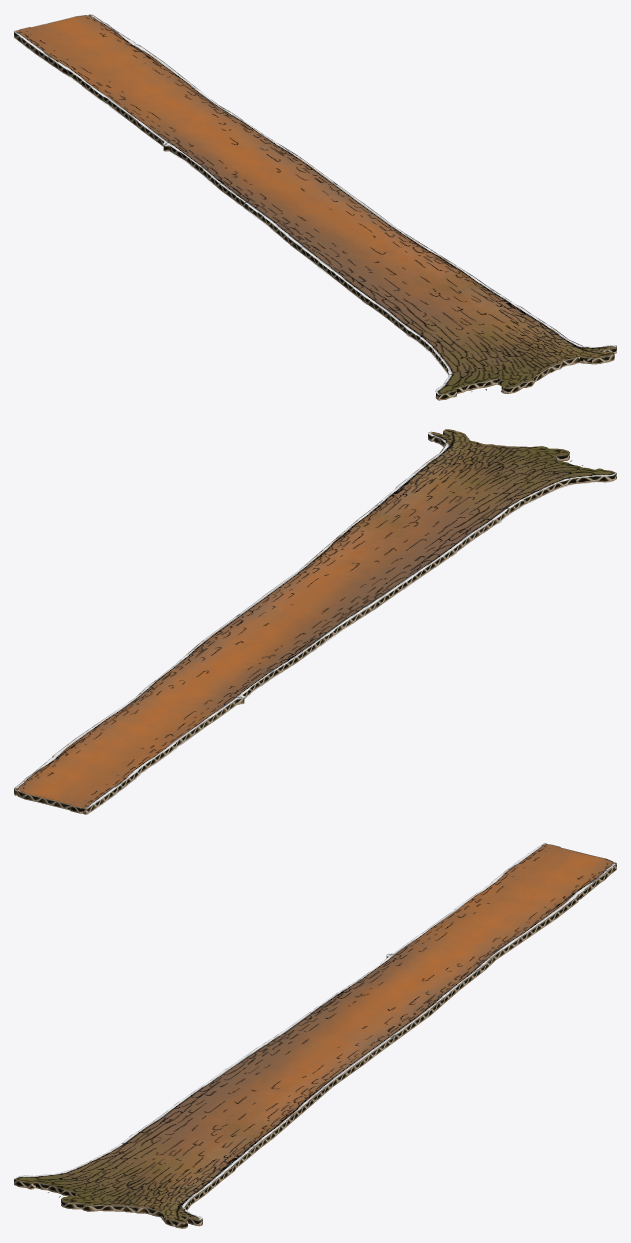
Rendered from treeMute.fbx.
The picture shows the model from 3 angles, top to bottom: view 1: azimuth 30°, elevation 25°; view 2: azimuth 150°, elevation 25°; view 3: azimuth 330°, elevation 25°; orthographic projection.
Parts seen in each view (by area): view 1: Plane; view 2: Plane; view 3: Plane.
Part boxes in pixels (x1,y1,x2,y2): Plane: (14,14,616,400); Plane: (14,429,616,814); Plane: (14,843,616,1228).
Size of the model in its own units: 1.62 by 0.05 by 7.46.
